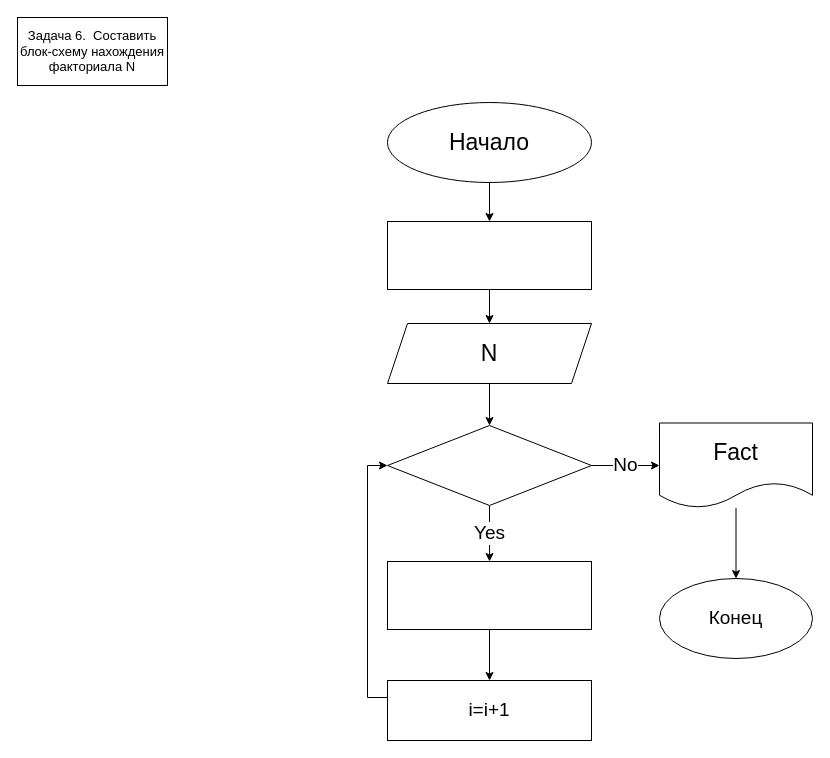
Image size: 830x758. Some labels were removed from this diagram. The shapes that lost their labels are listed below. From the top down, each one's box as (x1, y1, x2, y2) in pixels, then its label:
(386, 220, 592, 290): Fact=1, N, i=1
(386, 424, 592, 506): i<=N
(386, 560, 592, 630): Fact=Fact*i
